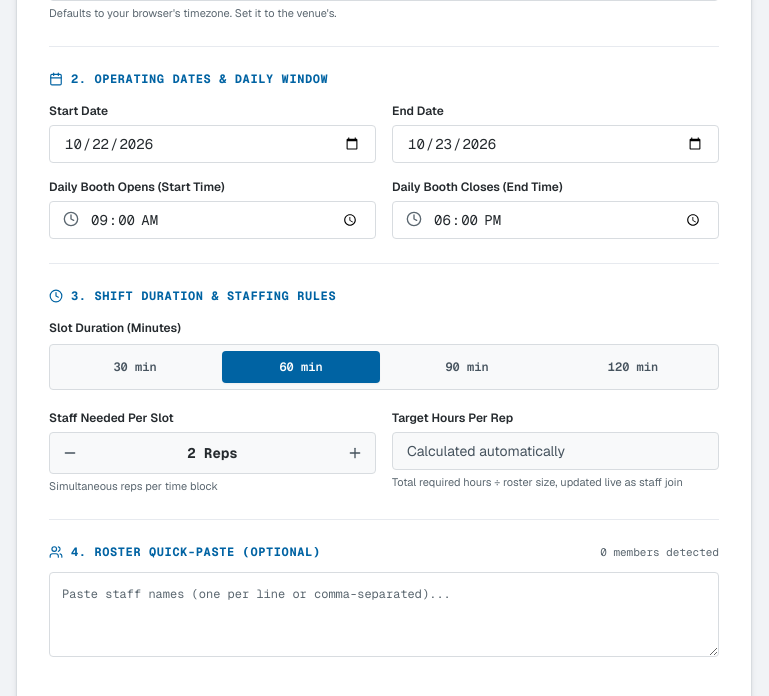
Test case: the create form guides and protects › warns, live, when the last part of each day would have no shift
(page scrolled)
Click the button "90 min". click: (467, 367)
box: [388,351,546,383]
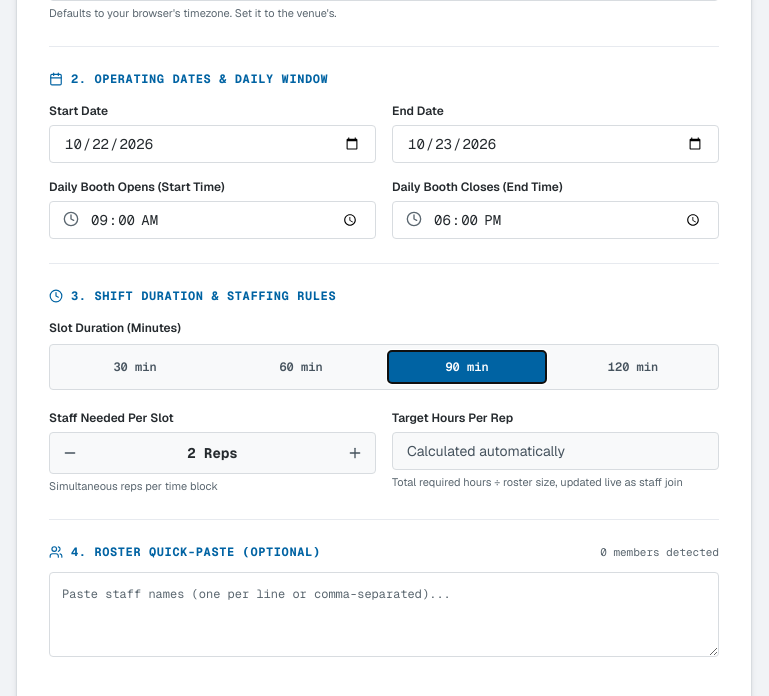
Replace the text in the time field labelled "Daily Booth Closes (End Time)" with "17:00". click: (556, 220)
box: [392,200,719,239]
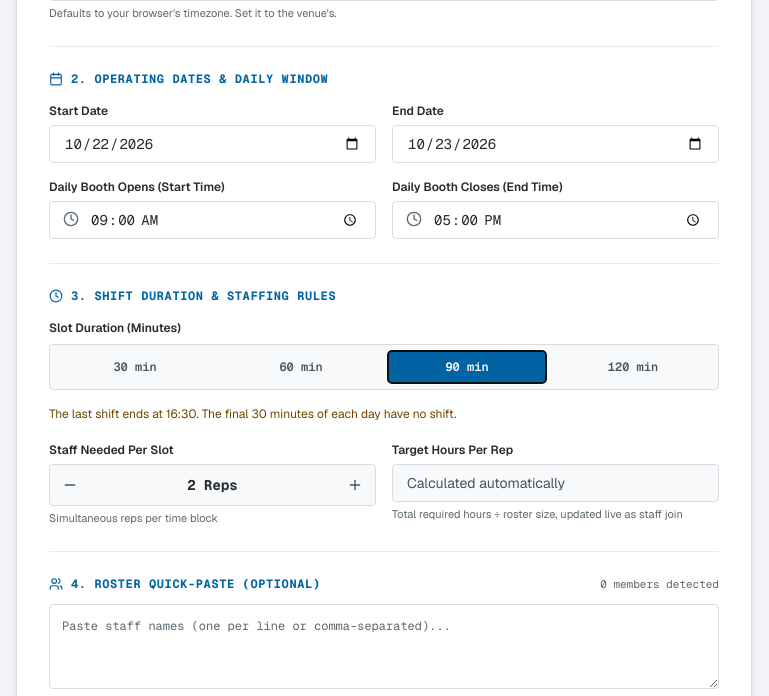
Now the message reads "The last shift ends at 16:30. The final 30 minutes of each day have no shift.", box [49,406,456,422]
